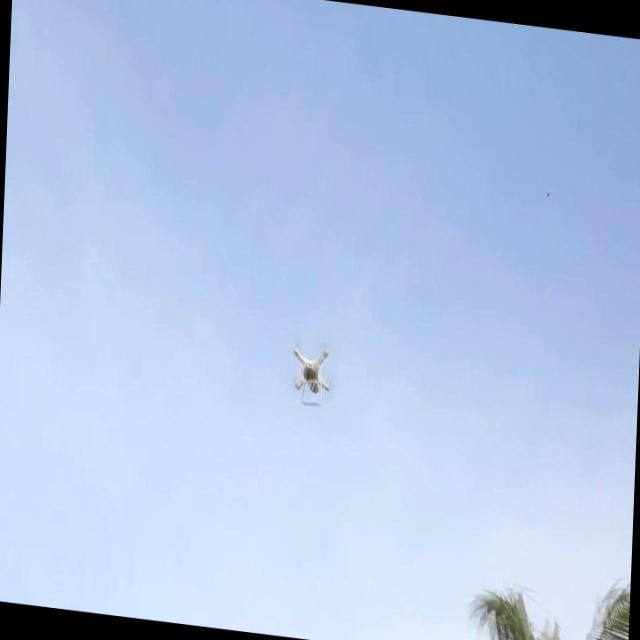drone: (289, 334, 334, 414)
